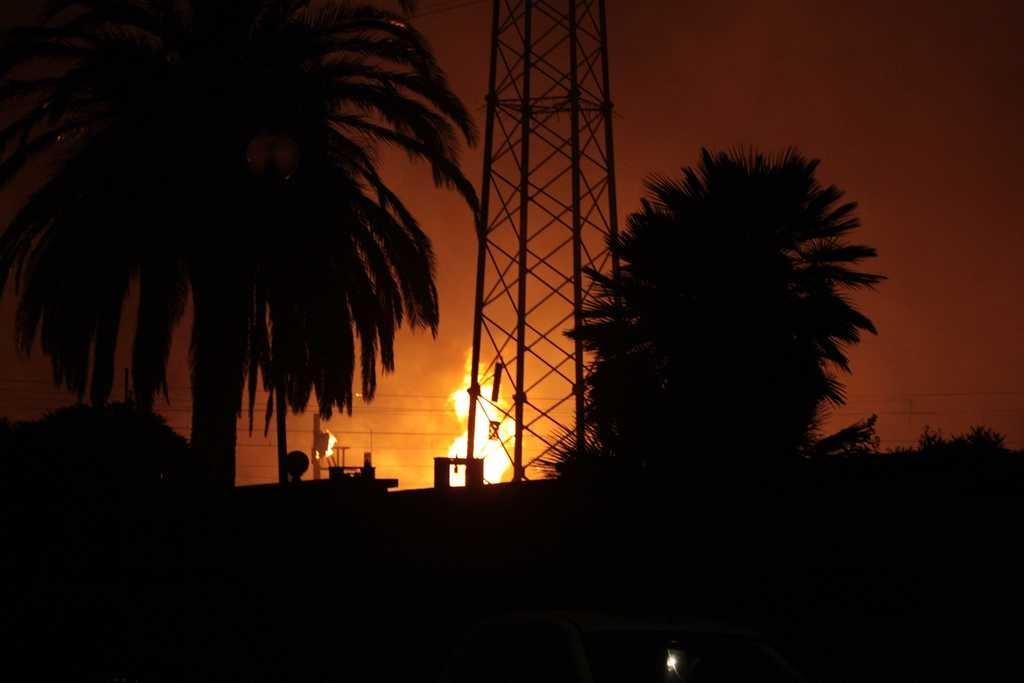fire: (453, 392, 515, 460)
